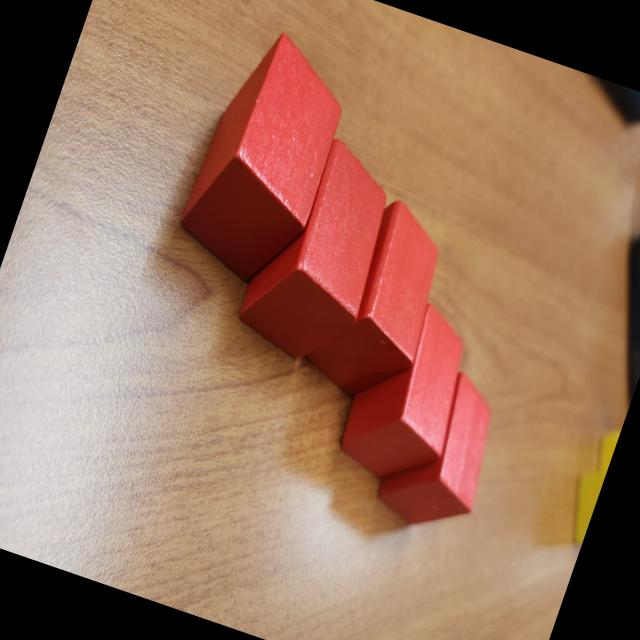red: (166, 21, 362, 296), (230, 126, 410, 373), (294, 186, 462, 415), (329, 288, 487, 496), (370, 359, 514, 544)
yellow: (560, 464, 607, 546), (590, 421, 622, 474)
